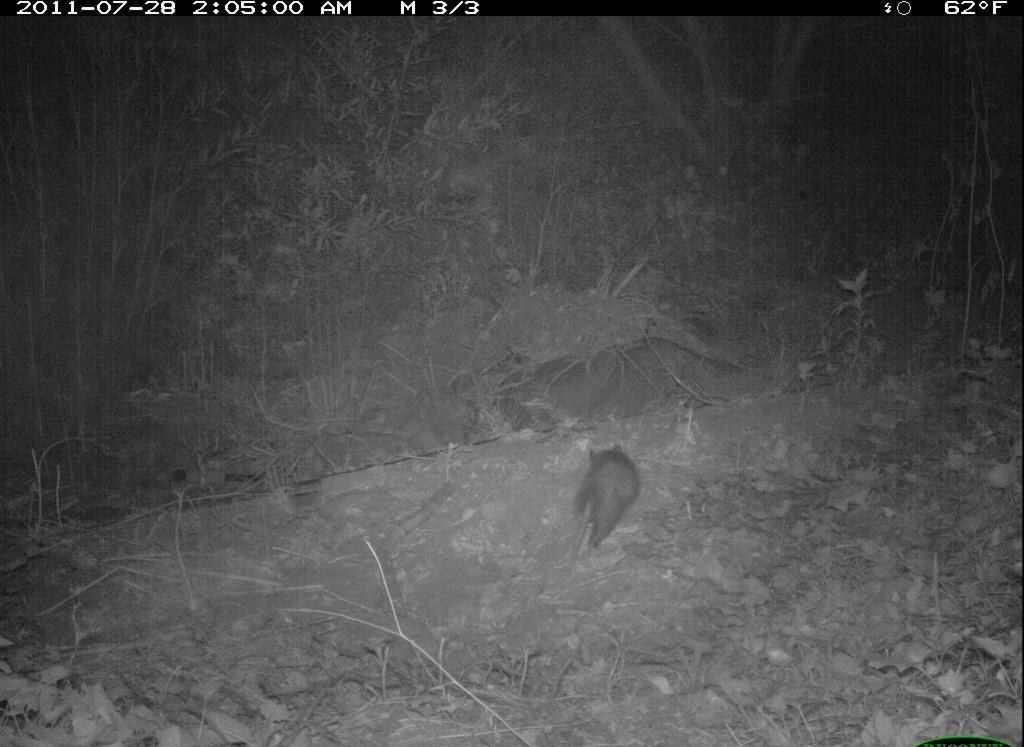opossum: (556, 433, 651, 586)
